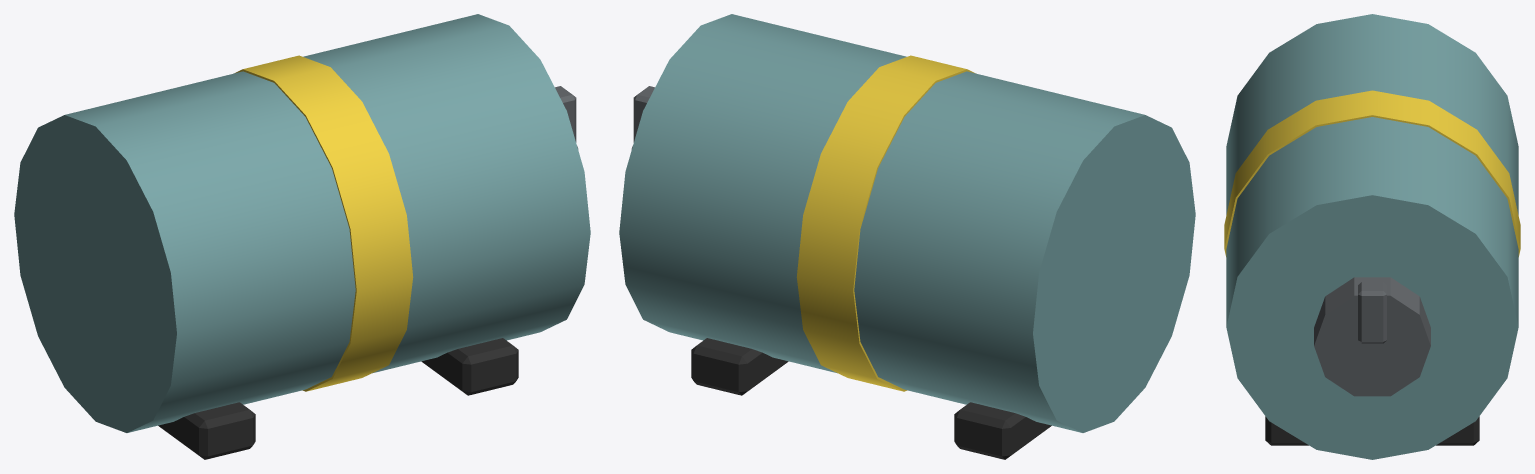
Rendered from salvage_canister.glb.
3 views of the same model, side by side, from view 1: azimuth 30°, elevation 25°; view 2: azimuth 150°, elevation 25°; view 3: azimuth 270°, elevation 25° (orthographic). The views are drawn at different scales.
Parts seen in each view (by area): view 1: salvage_canister; view 2: salvage_canister; view 3: salvage_canister.
Part boxes in pixels (x1,y1,x2,y2): salvage_canister: [14, 14, 590, 459]; salvage_canister: [619, 14, 1195, 459]; salvage_canister: [1224, 14, 1520, 459].
Bounding box in the file's own units: 0.505 × 0.312 × 0.304.
